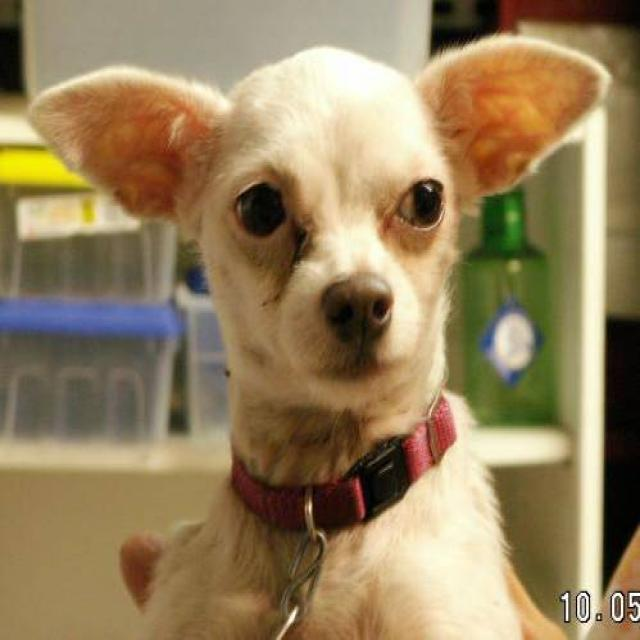dog: (26, 30, 612, 638)
